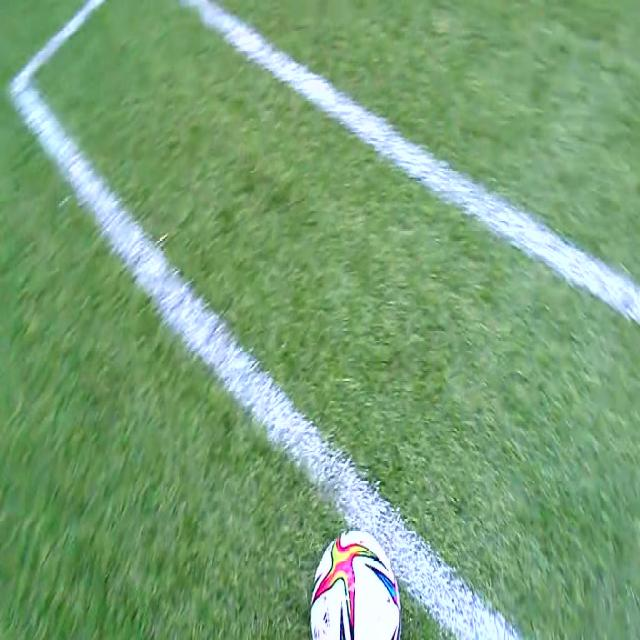ball: (311, 529, 401, 640)
